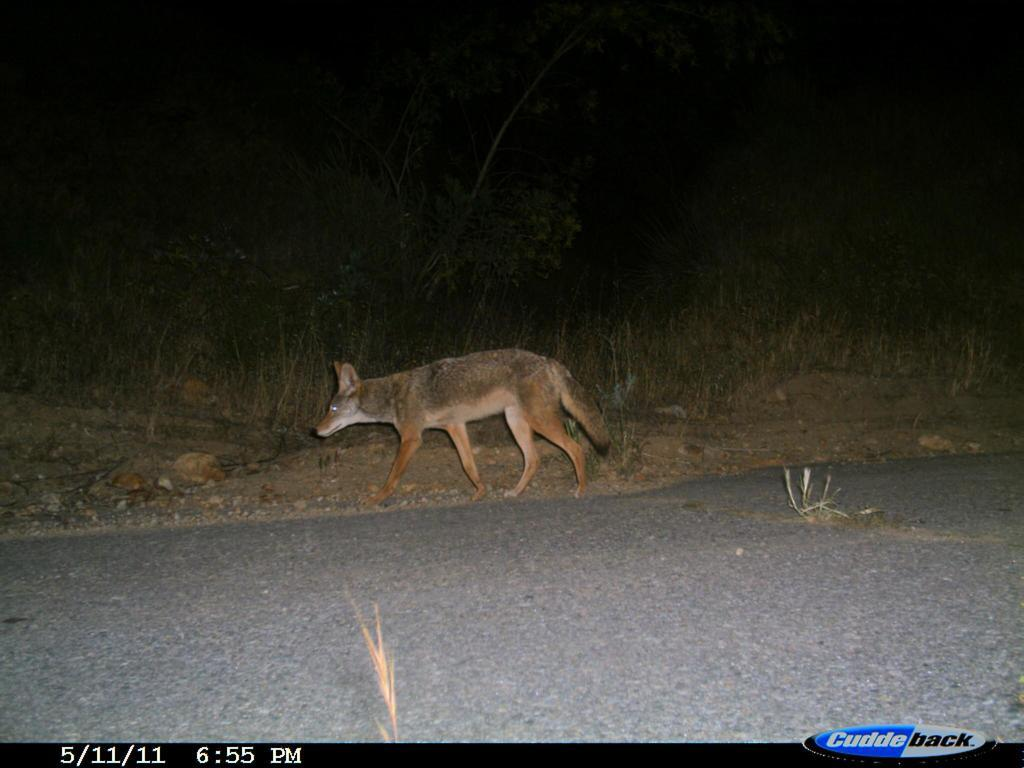coyote: (317, 349, 619, 507)
